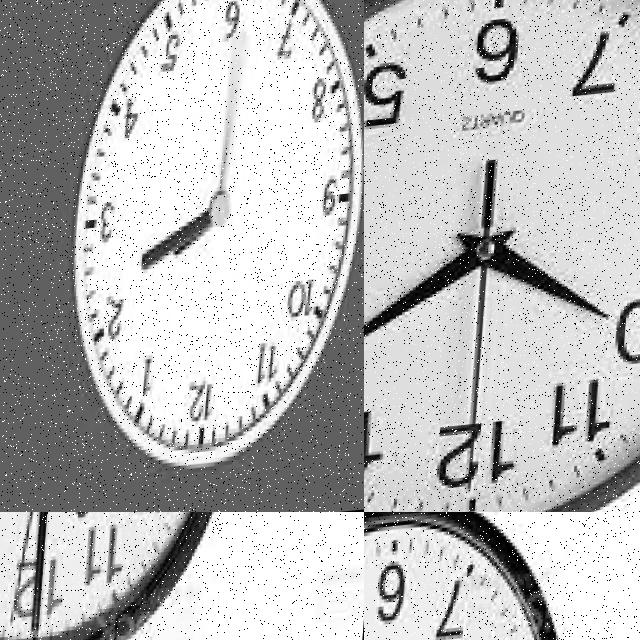Clocks-images: (67, 1, 365, 488), (365, 1, 640, 513), (1, 513, 266, 640), (365, 513, 591, 640)
